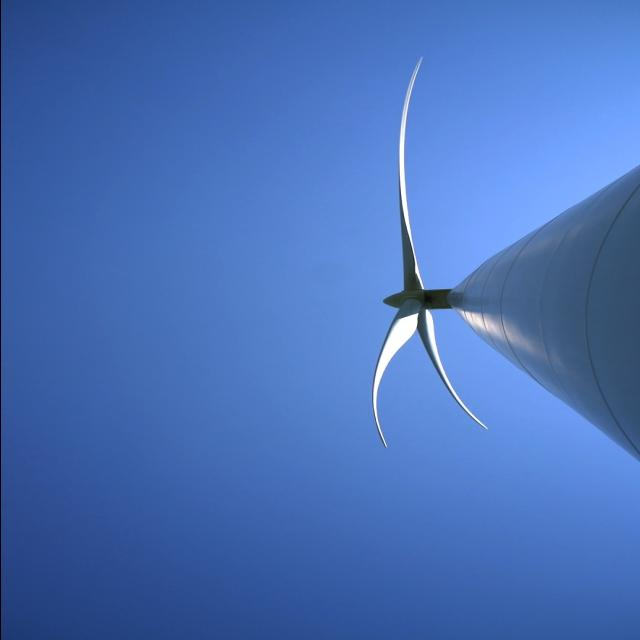blade 1: (339, 312, 417, 544)
blade 2: (426, 347, 498, 427)
blade 3: (352, 10, 422, 272)
